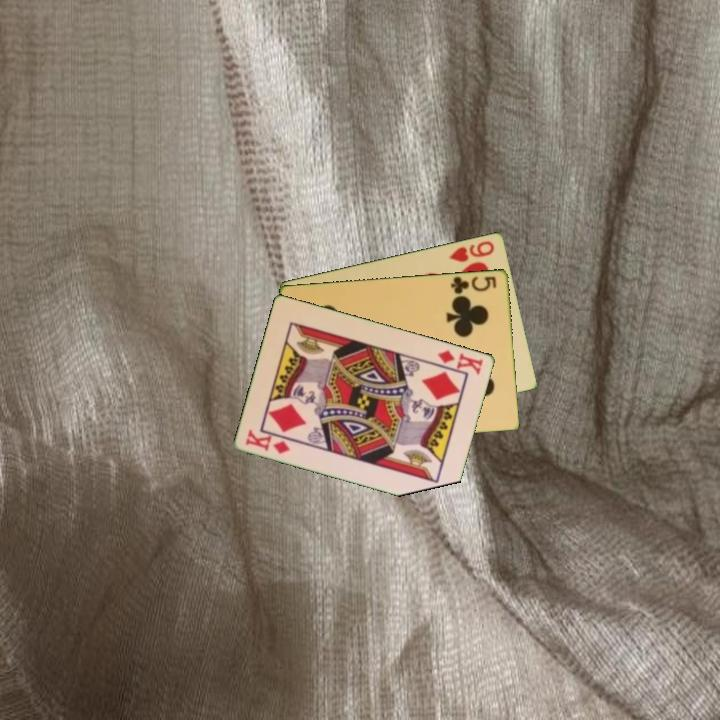5c: (447, 272, 499, 296)
9h: (446, 237, 497, 265)
Kd: (430, 346, 486, 377), (242, 426, 293, 457)
